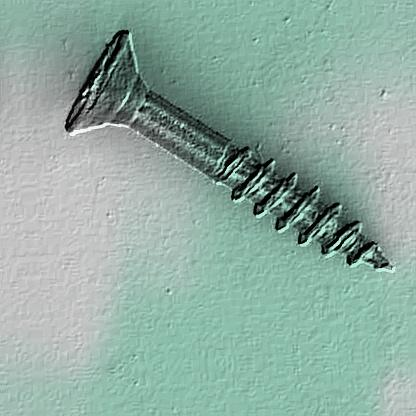metal: (63, 28, 395, 273)
